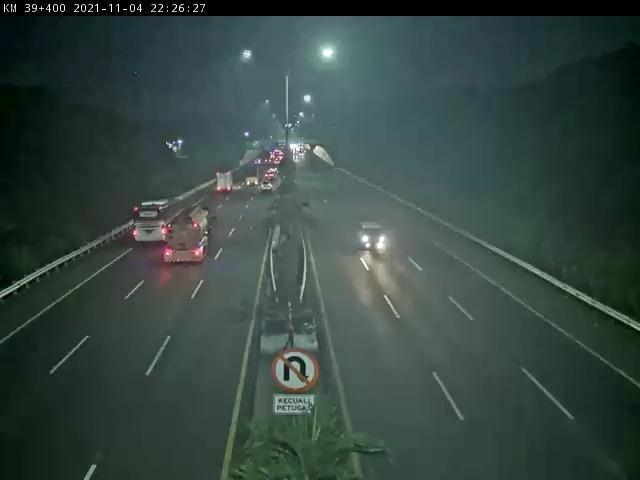bus: (134, 201, 185, 246)
car: (355, 217, 389, 258), (261, 180, 275, 195), (264, 172, 279, 183)
truck: (166, 205, 213, 265), (215, 171, 235, 196)
